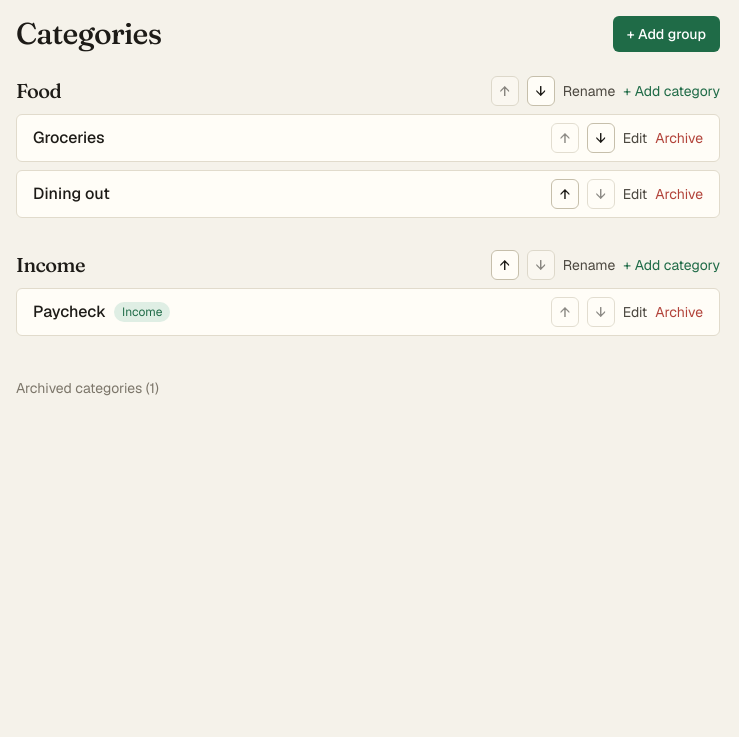
Scenario: CategoriesPage › creates a category through the form and refreshes the list
Expected: the element "Food" is shown, x1=16 y1=76 x2=720 y2=218
Click the button "+ Add category" in the row of "Food".
click(672, 91)  # box x1=623 y1=81 x2=720 y2=101
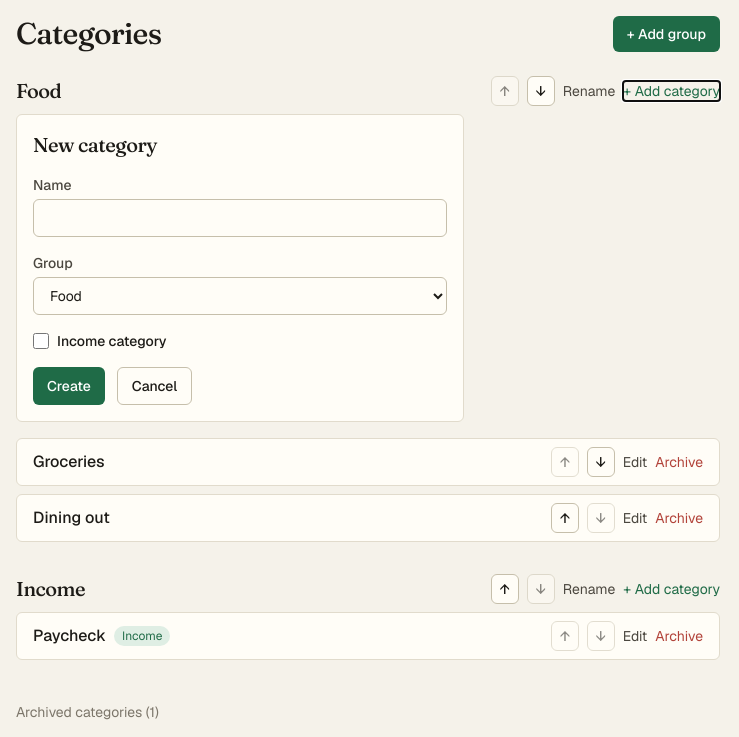
Type "Coffee" into the field labelled "Name".
click(240, 218); type("Coffee")  # box x1=33 y1=199 x2=447 y2=237
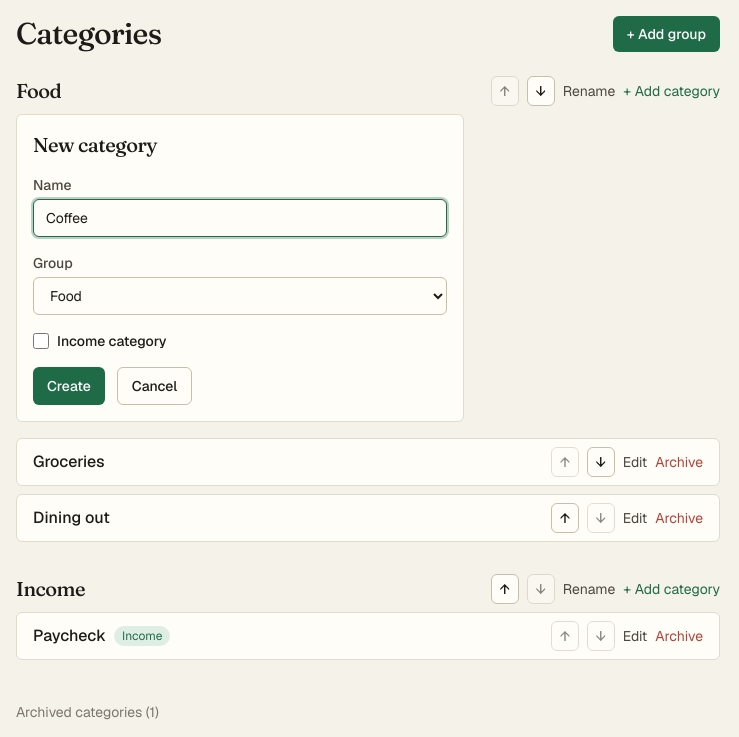
Click the button "Create".
click(69, 386)  # box x1=33 y1=367 x2=105 y2=405
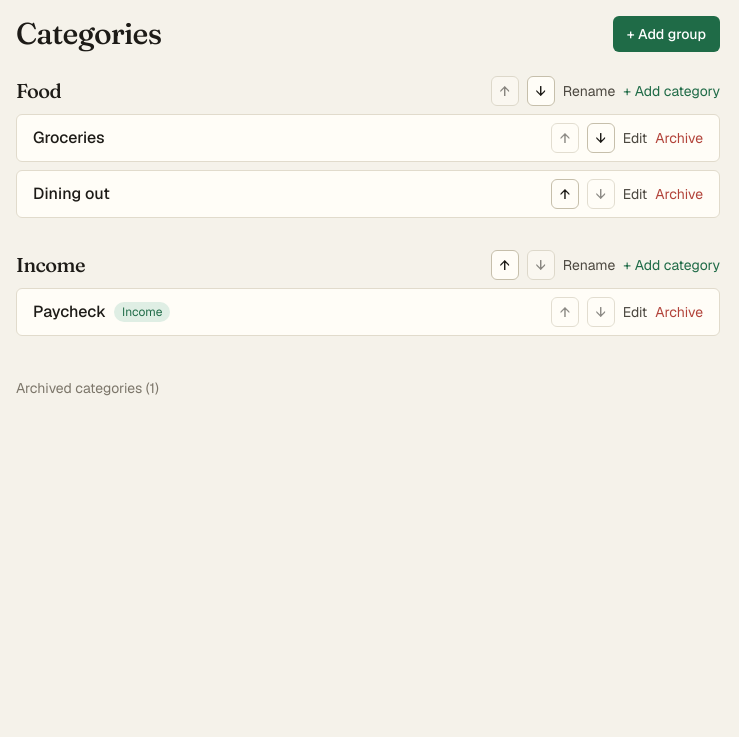
Now the heading "New category" is gone
